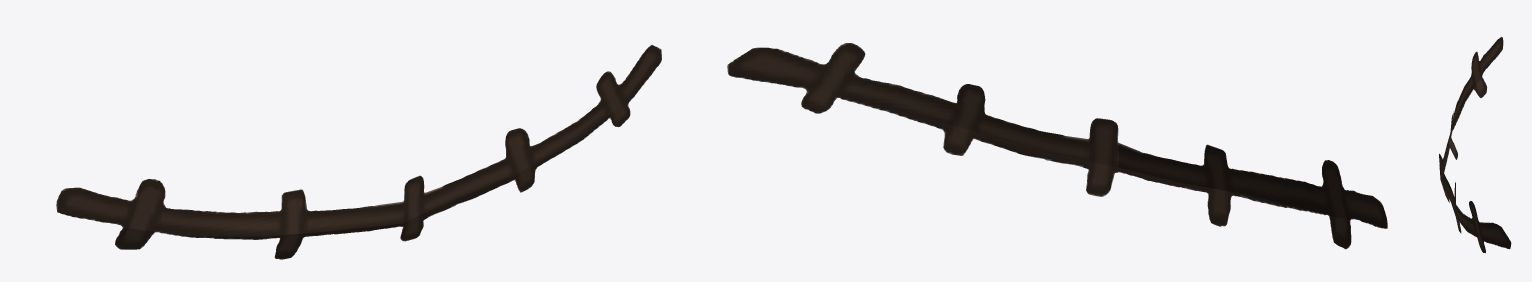
File: devil_mouth3.fbx
3 views of the same model, side by side, from view 1: azimuth 30°, elevation 25°; view 2: azimuth 150°, elevation 25°; view 3: azimuth 270°, elevation 25° (orthographic). The views are drawn at different scales.
Visible parts, largest first — view 1: teeth1_2:pPlane1; view 2: teeth1_2:pPlane1; view 3: teeth1_2:pPlane1.
Boxes of the visible parts, bbox=[...] form: teeth1_2:pPlane1: bbox=[56, 45, 661, 259]; teeth1_2:pPlane1: bbox=[727, 43, 1387, 249]; teeth1_2:pPlane1: bbox=[1439, 36, 1511, 253].
Bounding box in the file's own units: 1.4 × 0.2786 × 0.219.
